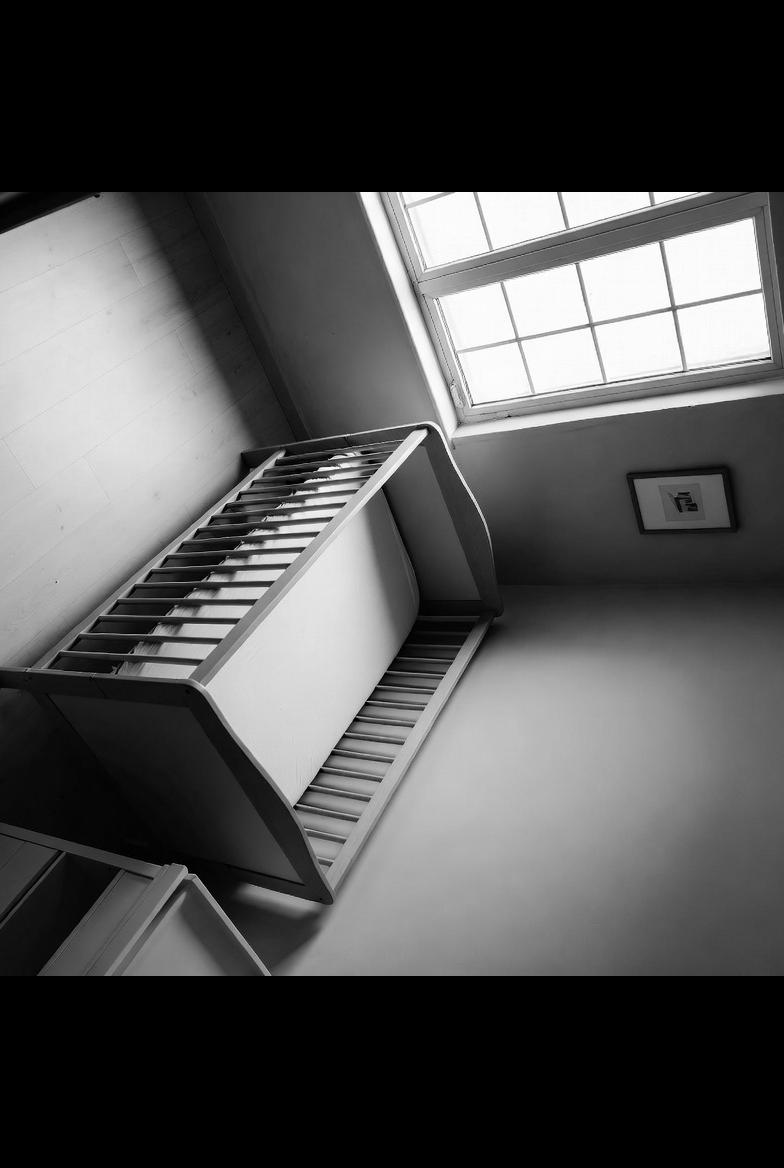crib: (0, 430, 507, 900)
